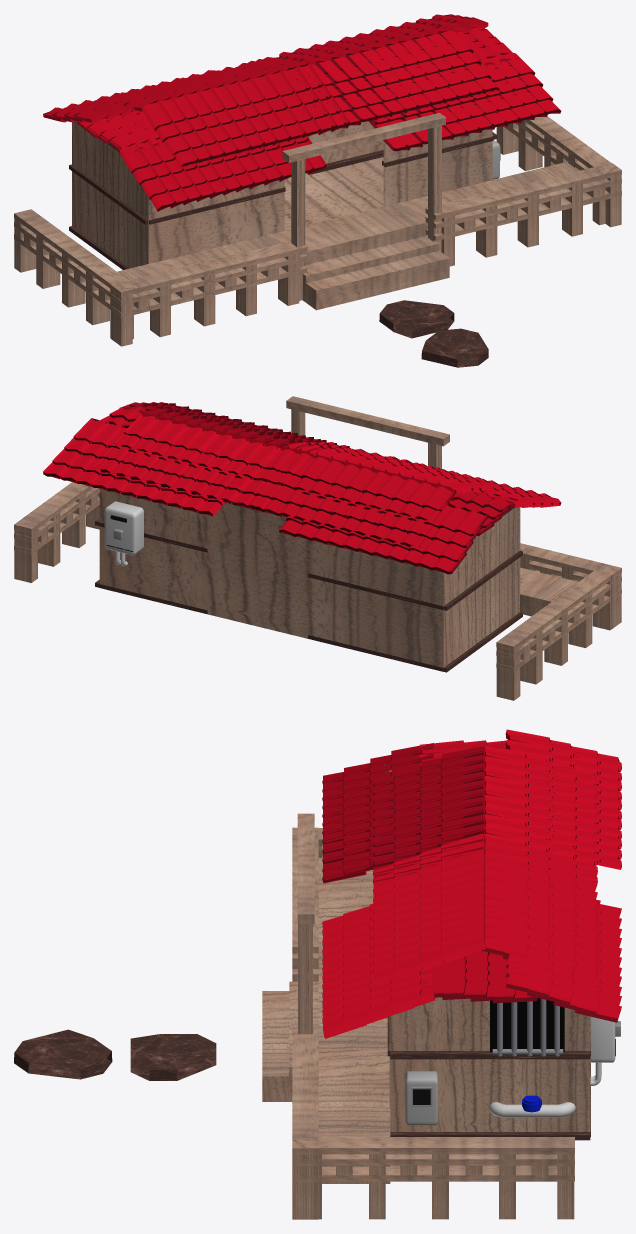
File: Shrine2.fbx
3 renders of one model, top to bottom at view 1: azimuth 30°, elevation 25°; view 2: azimuth 150°, elevation 25°; view 3: azimuth 270°, elevation 25°, orthographic. The views are drawn at different scales.
Visible parts, largest first — view 1: obj2, obj13, obj3, obj14, obj4, obj12, obj5, obj11, obj16, obj17, obj1, obj10 (+9 smaller); view 2: obj2, obj12, obj16, obj4, obj13, obj3, obj15, 瞬間湯沸かし器, obj17, obj14, obj22, obj23 (+4 smaller); view 3: obj13, obj12, obj2, obj14, obj4, obj16, obj3, obj6, obj17, アルミサッシ, obj25, obj24 (+10 smaller).
Part boxes in pixels (x1,y1,x2,y2): obj2: (72,121,492,268); obj13: (142,30,499,166); obj3: (111,163,621,346); obj14: (119,52,561,211); obj4: (14,116,620,338); obj12: (93,23,456,111); obj5: (268,203,426,265); obj11: (302,250,449,310); obj16: (43,14,488,123); obj17: (77,27,517,153); obj1: (291,126,441,300); obj10: (302,235,439,282); obj2: (99,489,520,671); obj12: (93,413,456,547); obj16: (43,418,488,574); obj4: (14,482,620,700); obj13: (142,408,499,493); obj3: (520,543,621,629); obj15: (286,396,449,446); 瞬間湯沸かし器: (104,501,143,566); obj17: (100,404,517,535); obj14: (119,402,561,507); obj22: (308,573,443,671); obj23: (443,506,522,672); obj13: (373,746,485,984); obj12: (482,745,597,981); obj2: (389,763,590,1131); obj14: (322,743,434,1038); obj4: (292,828,574,1219); obj16: (505,729,621,1022); obj3: (292,827,318,1219); obj6: (318,1050,390,1134); obj17: (420,740,537,1003); アルミサッシ: (490,998,564,1056); obj25: (14,1029,112,1079); obj24: (130,1034,216,1080).
Bounding box in the file's own units: 740 × 240 × 593.
